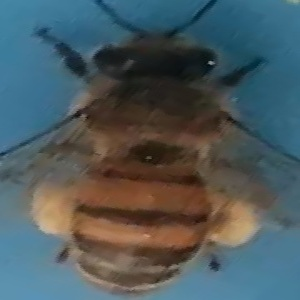bee: (7, 7, 288, 296)
